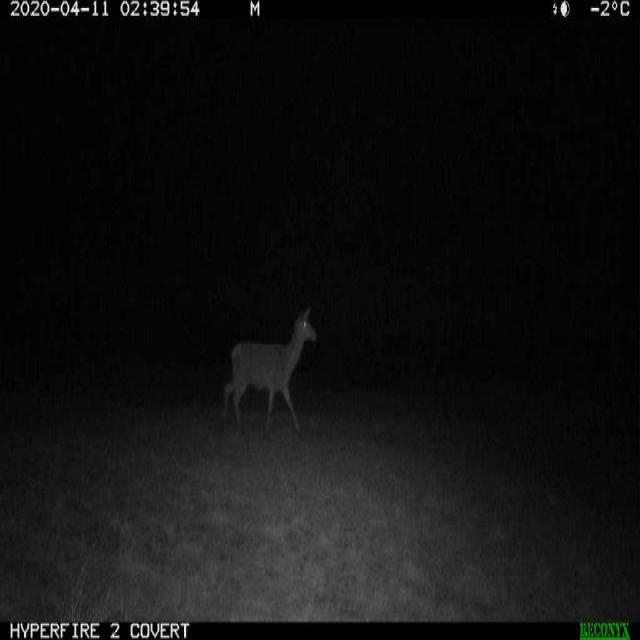deer: (220, 301, 324, 446)
